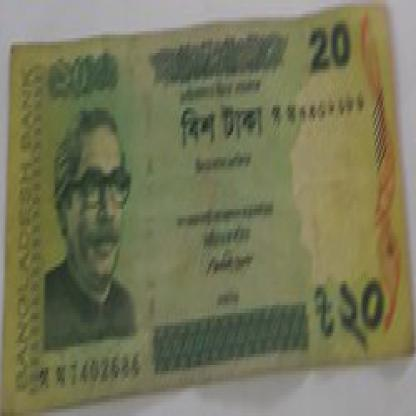Twenty: (314, 274, 404, 350), (170, 97, 273, 149), (298, 17, 364, 87), (48, 55, 130, 104)
